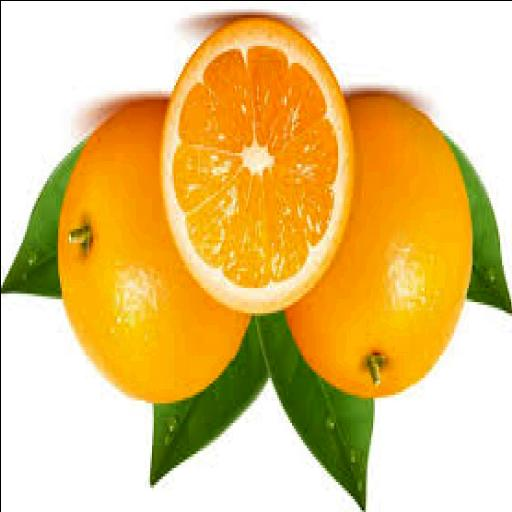orange: (58, 102, 248, 402), (161, 17, 351, 312), (286, 96, 471, 396)
